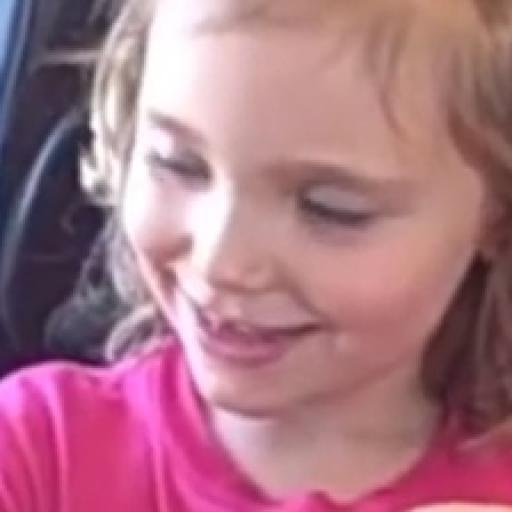Autism: (60, 18, 512, 503)
